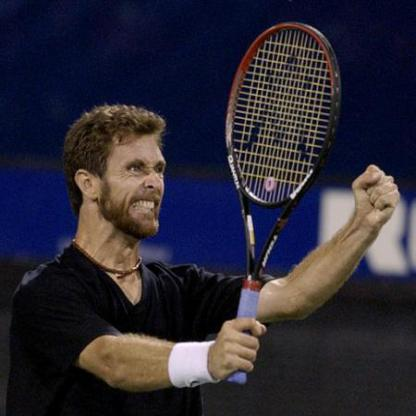face: (96, 109, 179, 242)
